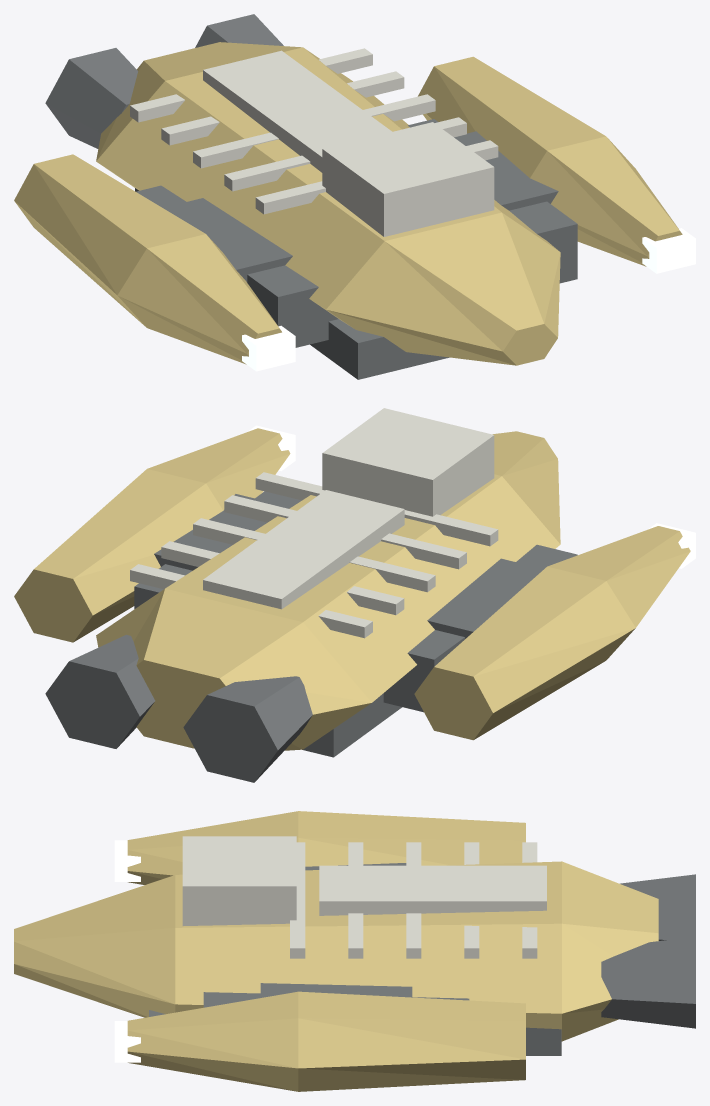
The picture shows the model from 3 angles, top to bottom: view 1: azimuth 30°, elevation 25°; view 2: azimuth 150°, elevation 25°; view 3: azimuth 270°, elevation 25°; orthographic projection. The views are drawn at different scales.
Bounding box in the file's own units: 5.31 × 1.58 × 6.54.
